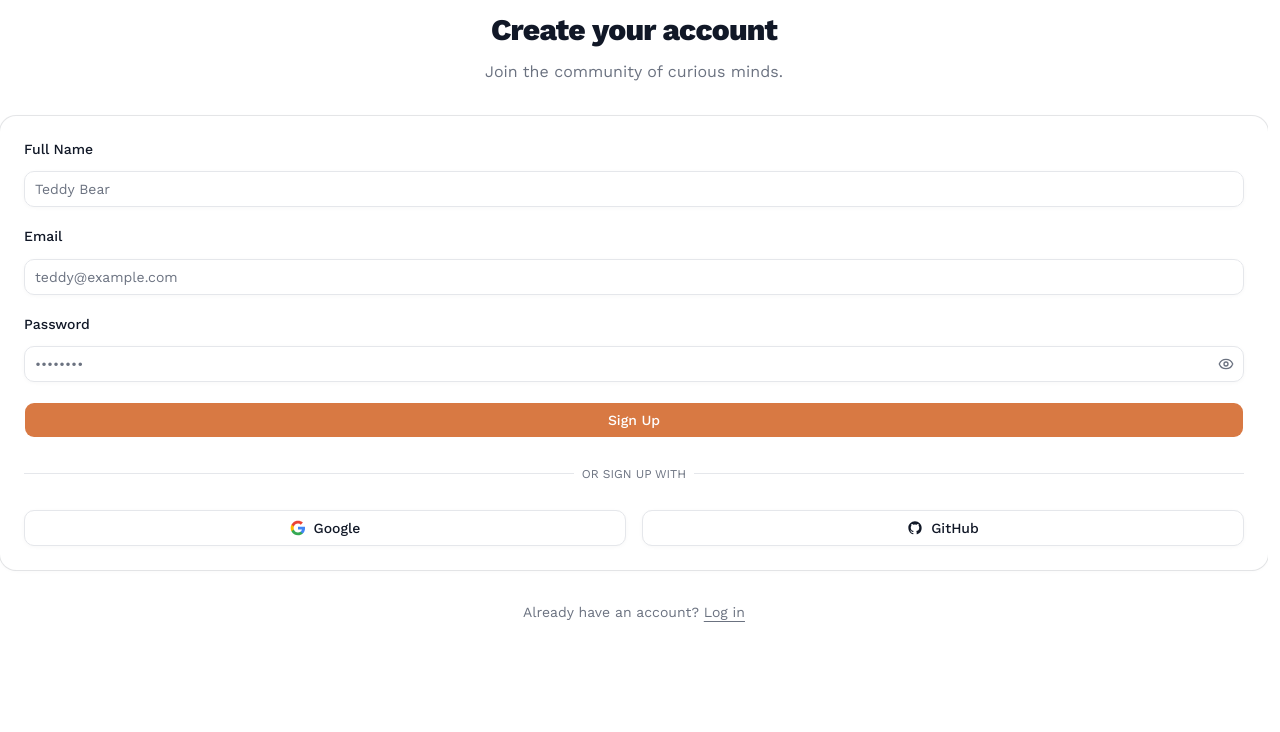
SignUpPage › shows validation error for short password
Type "Jane Doe" into the field labelled "Full Name" at (634, 189), box [24, 171, 1244, 207]
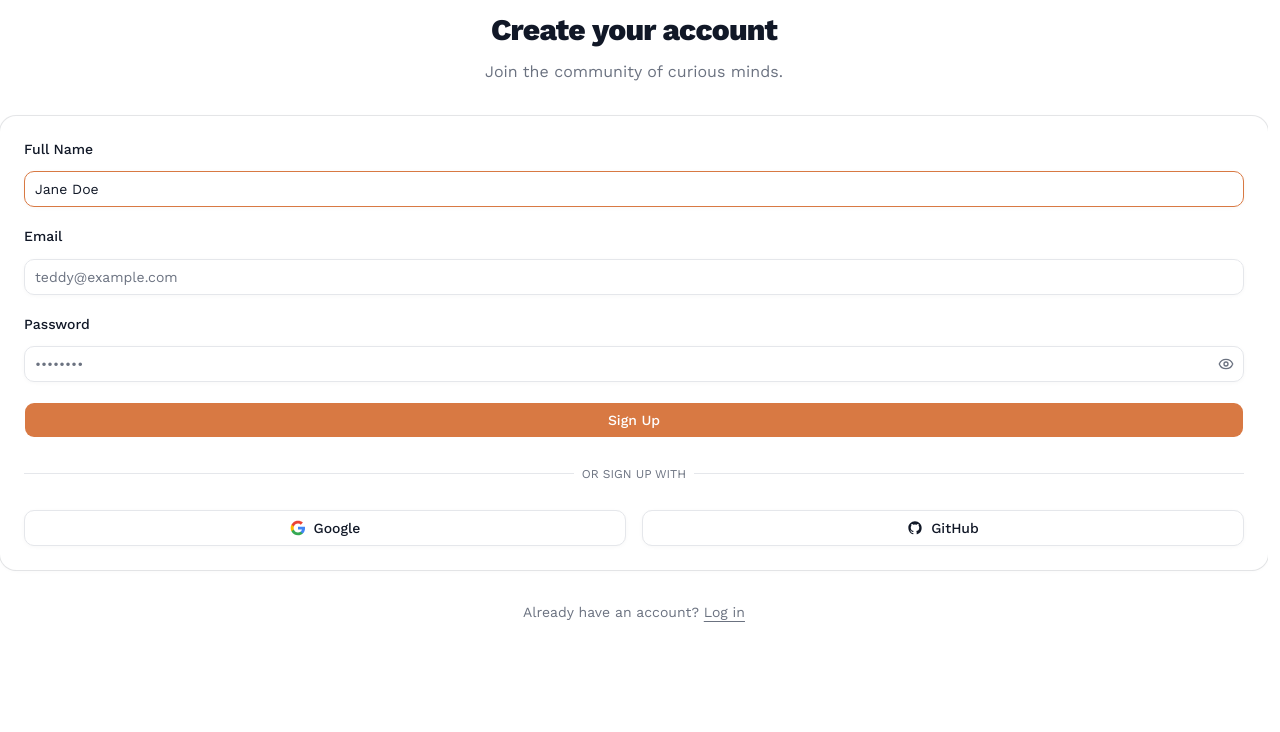
Type "jane@example.com" into the field labelled "Email" at (634, 276), box [24, 258, 1244, 294]
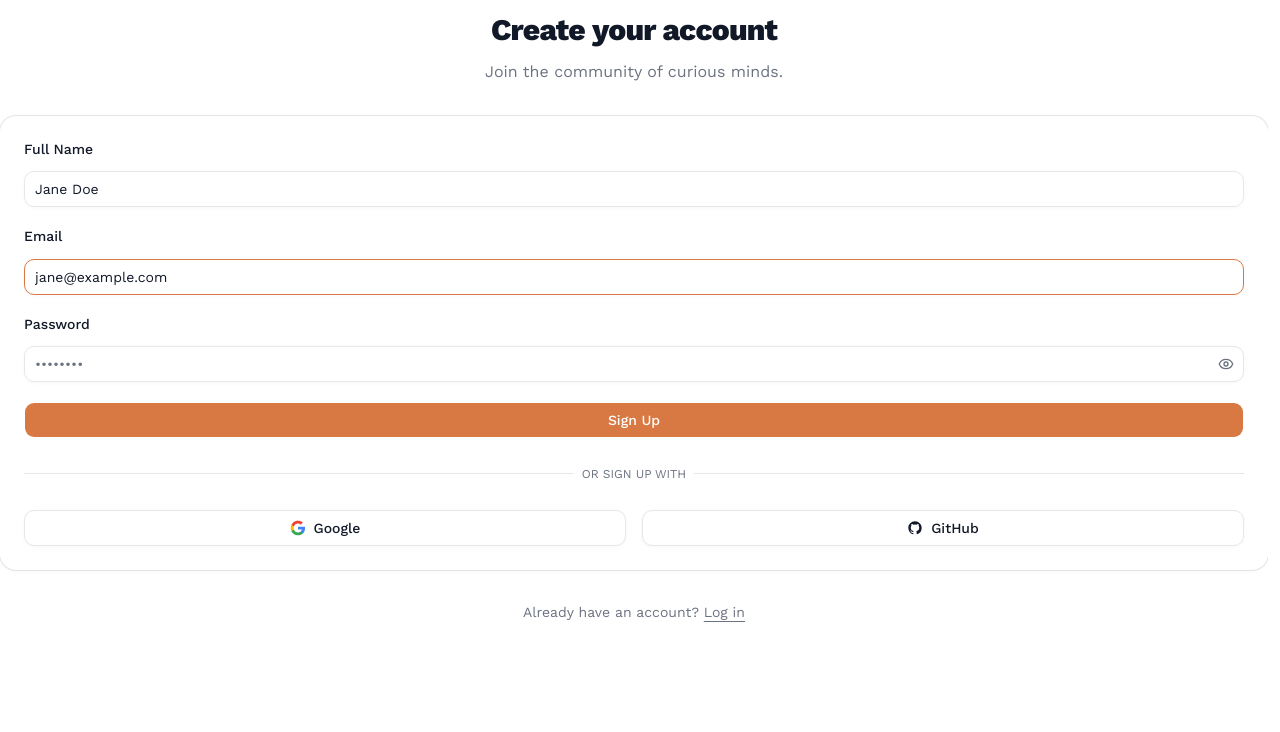
Type "short" into the password field labelled "Password" at (634, 364), box [24, 346, 1244, 382]
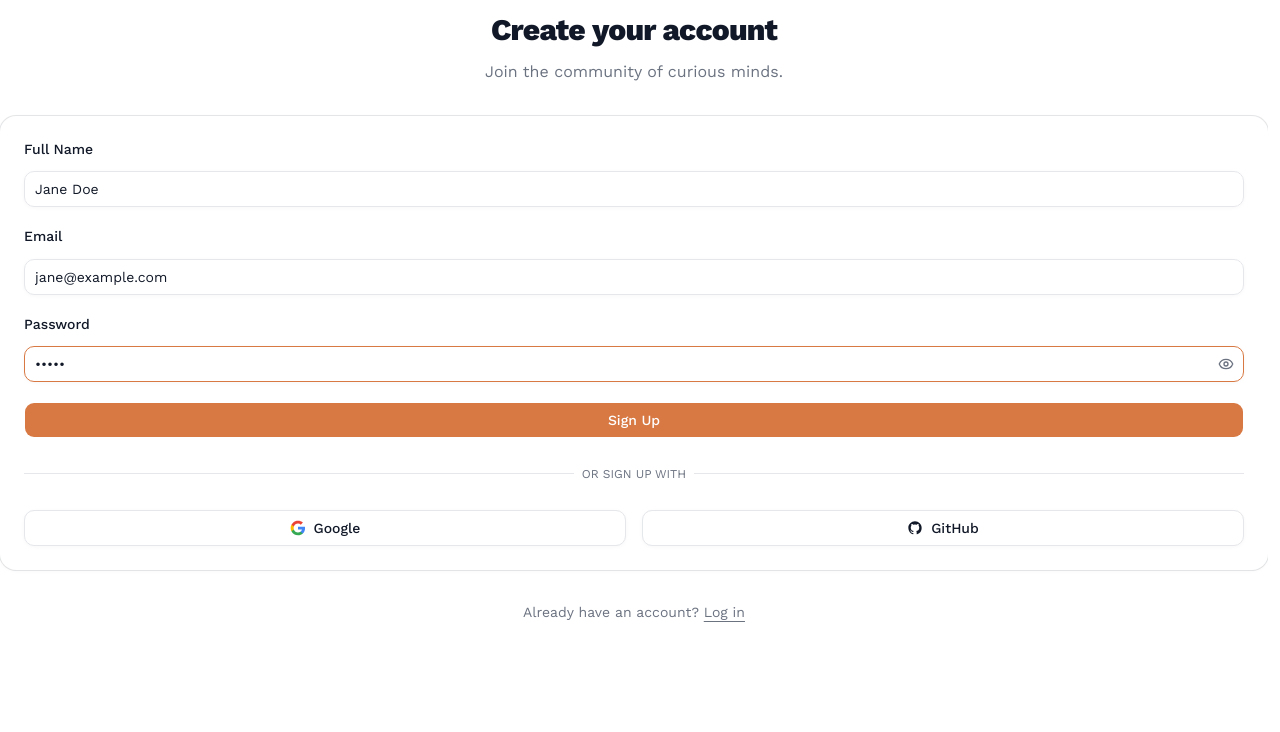
Click the button "Sign Up" at (634, 420), box [24, 402, 1244, 438]
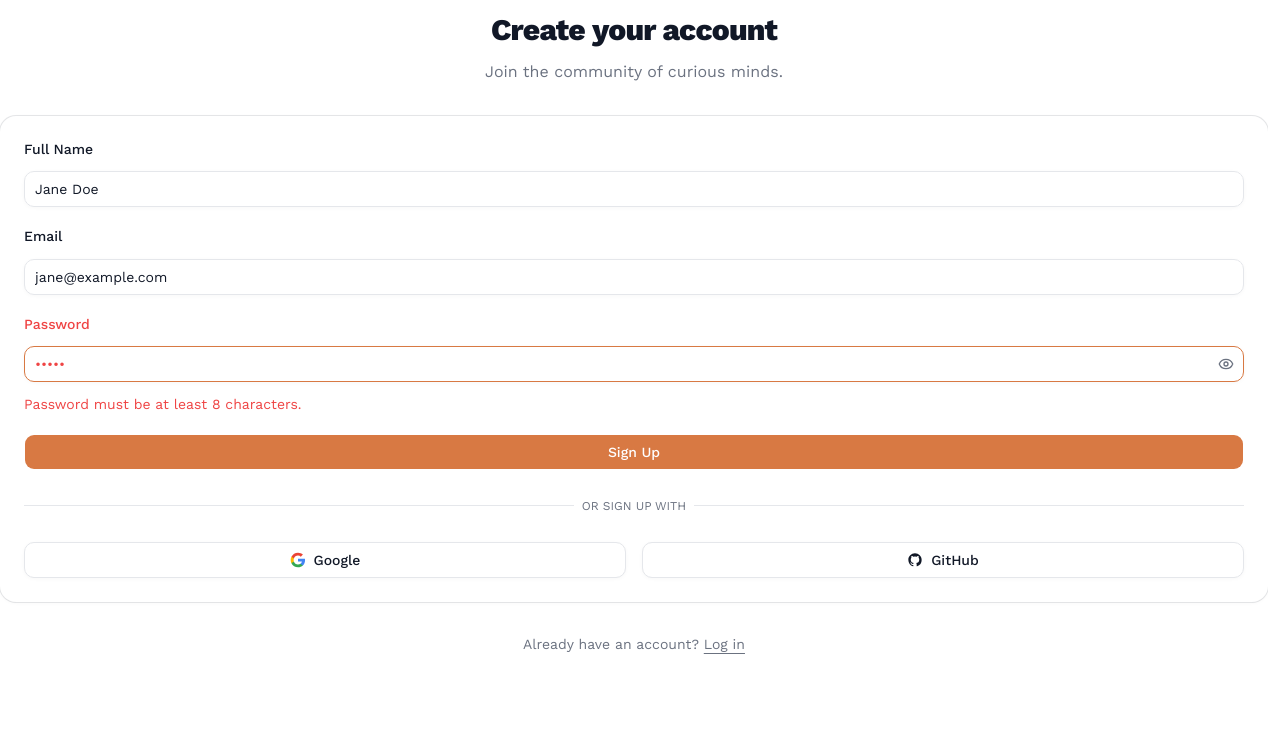
Expected: the text "Password must be at least 8 characters." is shown, [24, 396, 302, 412]
